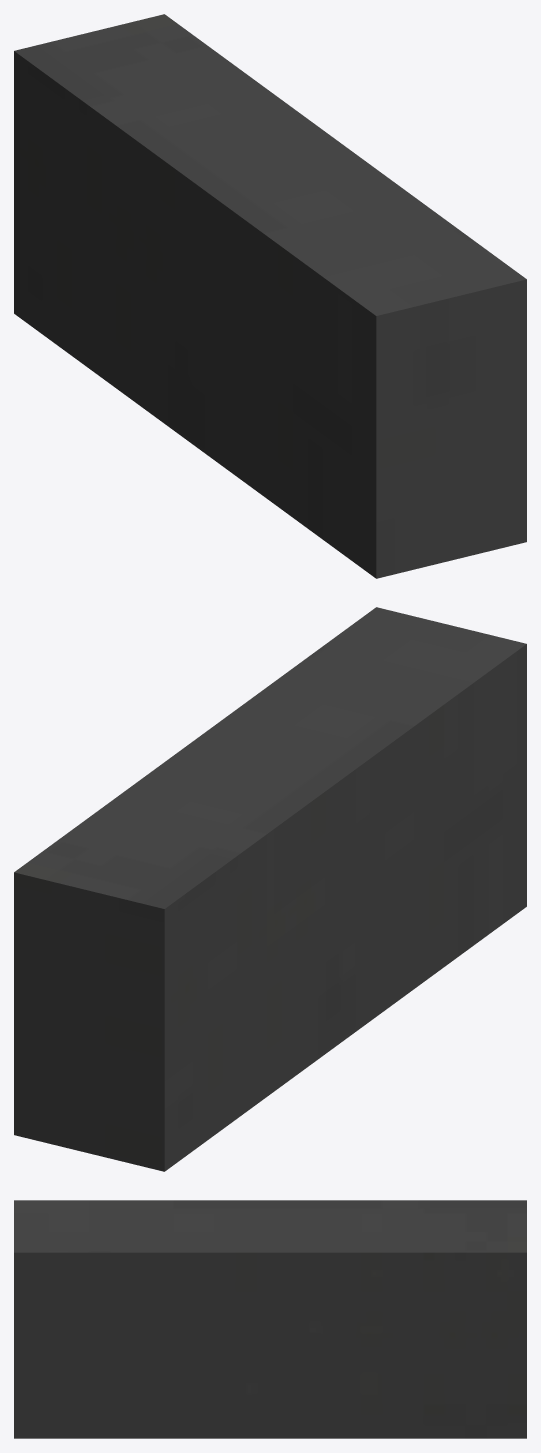
File: front_right_caster__yoke_cheek_left.glb
The picture shows the model from 3 angles, top to bottom: view 1: azimuth 30°, elevation 25°; view 2: azimuth 150°, elevation 25°; view 3: azimuth 270°, elevation 25°; orthographic projection. The views are drawn at different scales.
Parts seen in each view (by area): view 1: geometry_0; view 2: geometry_0; view 3: geometry_0.
Boxes of the visible parts, x1,y1,x2,y2 form: geometry_0: [14, 14, 526, 578]; geometry_0: [14, 607, 526, 1171]; geometry_0: [14, 1200, 526, 1438].
Size of the model in its own units: 0.012 by 0.02 by 0.05.
Materials: 1 (1 with a texture image).
